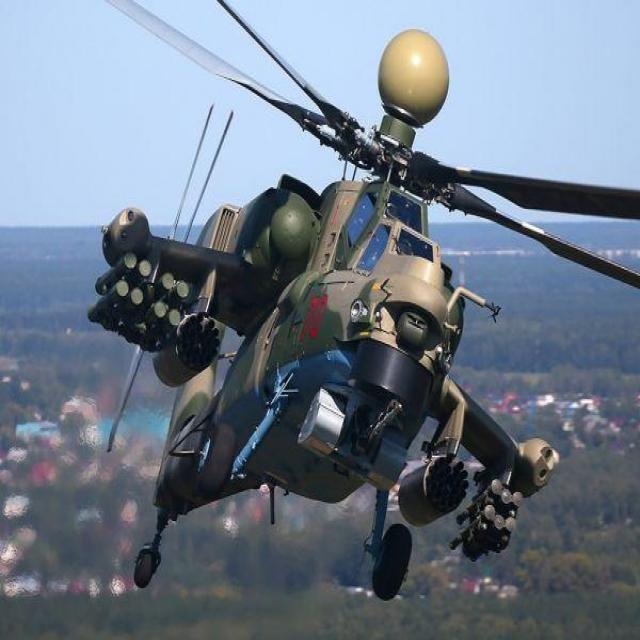MIL_HELO: (70, 0, 639, 601)
